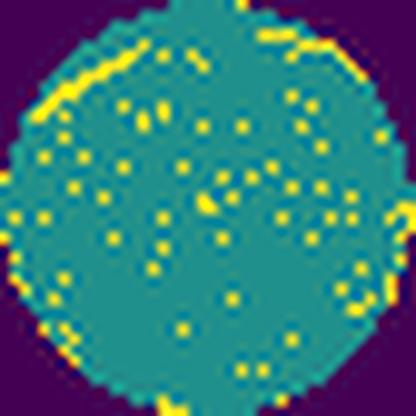Scratch: (29, 38, 154, 127)
